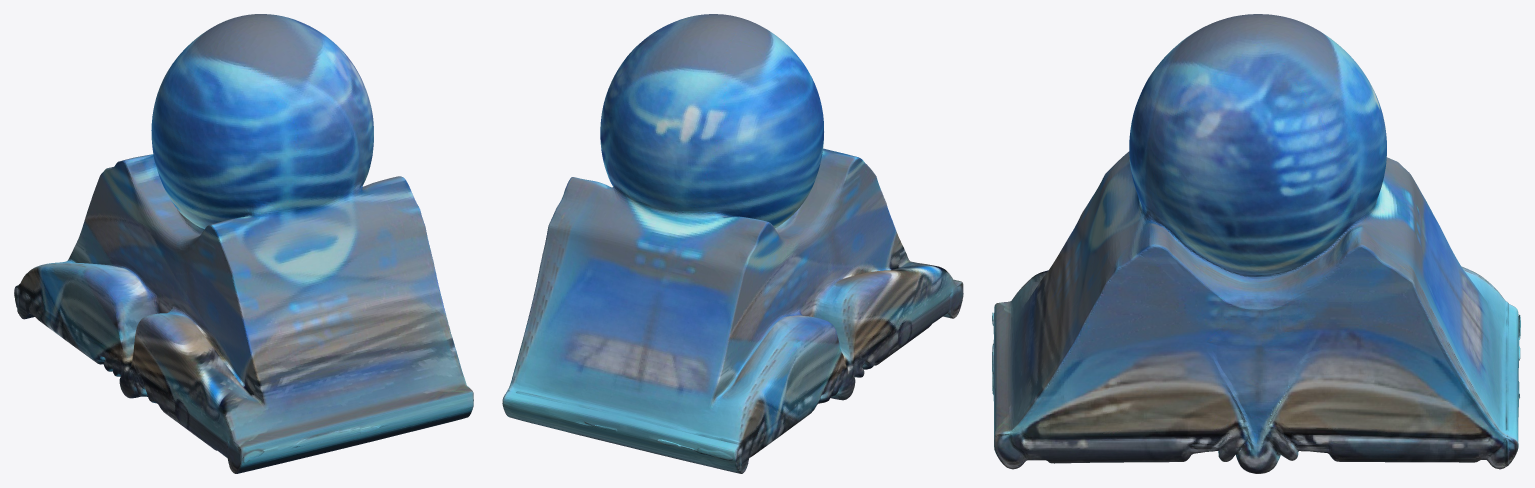
Rendered from spaceborne_xeno_encyclopedia.glb.
3 views of the same model, side by side, from view 1: azimuth 30°, elevation 25°; view 2: azimuth 150°, elevation 25°; view 3: azimuth 270°, elevation 25° (orthographic). The views are drawn at different scales.
Bounding box in the file's own units: 1.21 × 1.66 × 2.01.
Materials: 1 (1 with a texture image).
